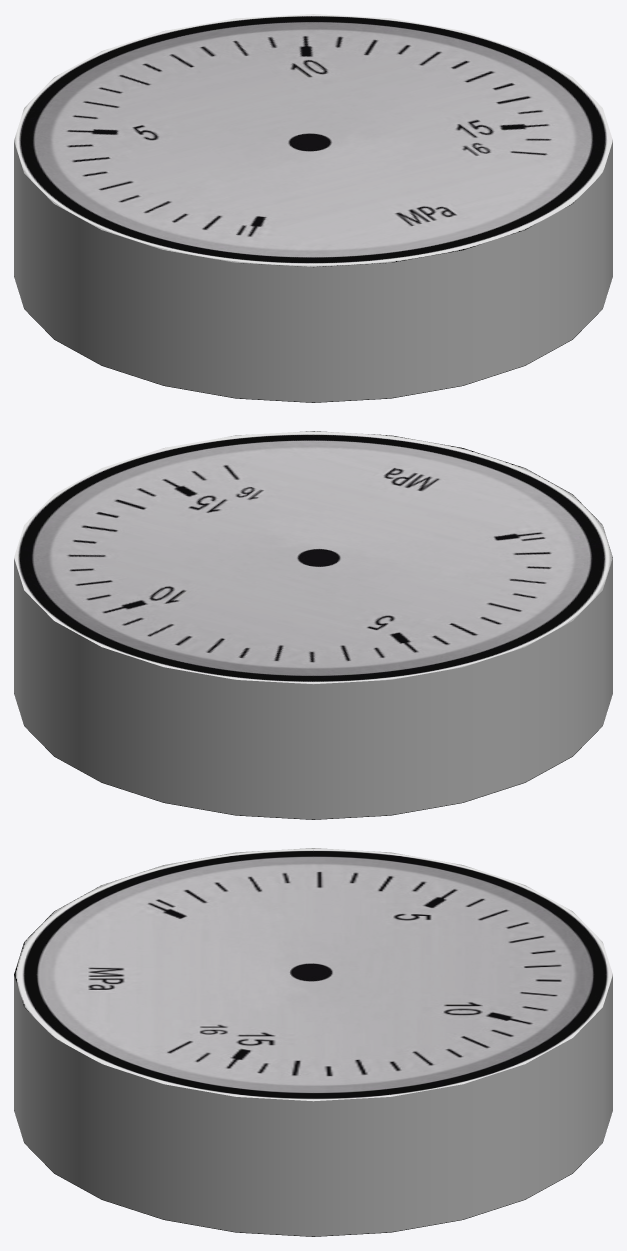
Rendered from MonoMetr.FBX.
3 renders of one model, top to bottom at view 1: azimuth 30°, elevation 25°; view 2: azimuth 150°, elevation 25°; view 3: azimuth 270°, elevation 25°, orthographic.
Visible parts, largest first — view 1: Cone001; view 2: Cone001; view 3: Cone001.
Boxes of the visible parts, left/top/right/bottom form: Cone001: left=14, top=14, right=612, bottom=402; Cone001: left=14, top=431, right=612, bottom=819; Cone001: left=14, top=848, right=612, bottom=1236.
Bounding box in the file's own units: 48 × 12 × 48.
Materials: 1 (1 with a texture image).
